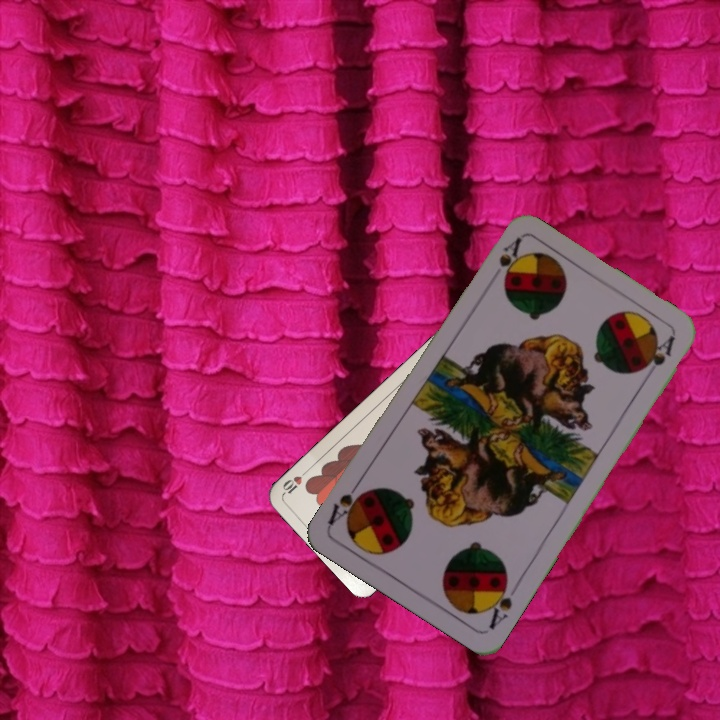SA: (481, 574, 515, 633), (495, 234, 524, 282)
